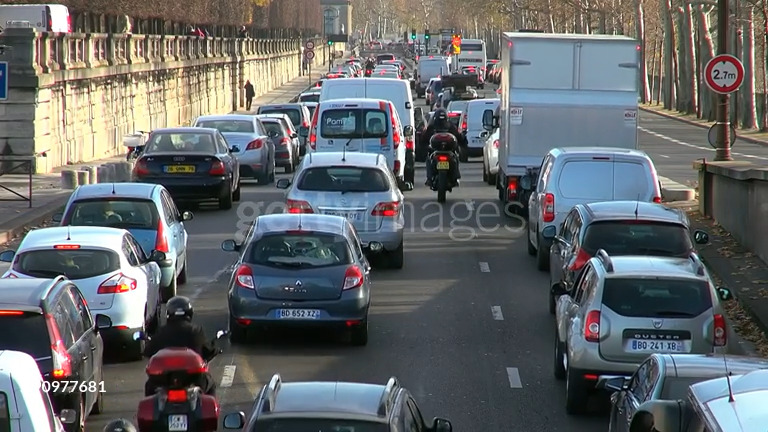car_number: (627, 339, 685, 352), (276, 309, 320, 319)
